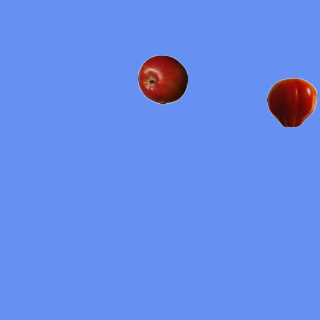Apple Braeburn: (137, 54, 187, 104)
Tomato 1: (266, 77, 316, 127)
